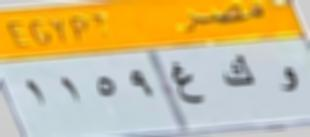1: (53, 70, 89, 106), (22, 74, 49, 109)
5: (90, 68, 122, 111)
9: (128, 63, 156, 108)
ghayn: (166, 58, 207, 112)
kaaf: (222, 50, 260, 96)
waw: (272, 61, 303, 97)
